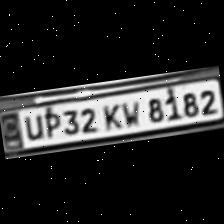1: (159, 88, 180, 120)
2: (74, 102, 100, 134), (194, 84, 218, 116)
3: (58, 106, 80, 134)
8: (141, 92, 164, 123), (176, 87, 198, 116)
K: (96, 100, 122, 130)
P: (40, 106, 61, 137)
U: (19, 107, 44, 140)
W: (116, 94, 142, 127)
